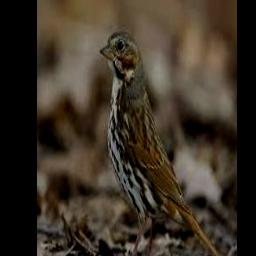Sparrow: (99, 30, 222, 256)
